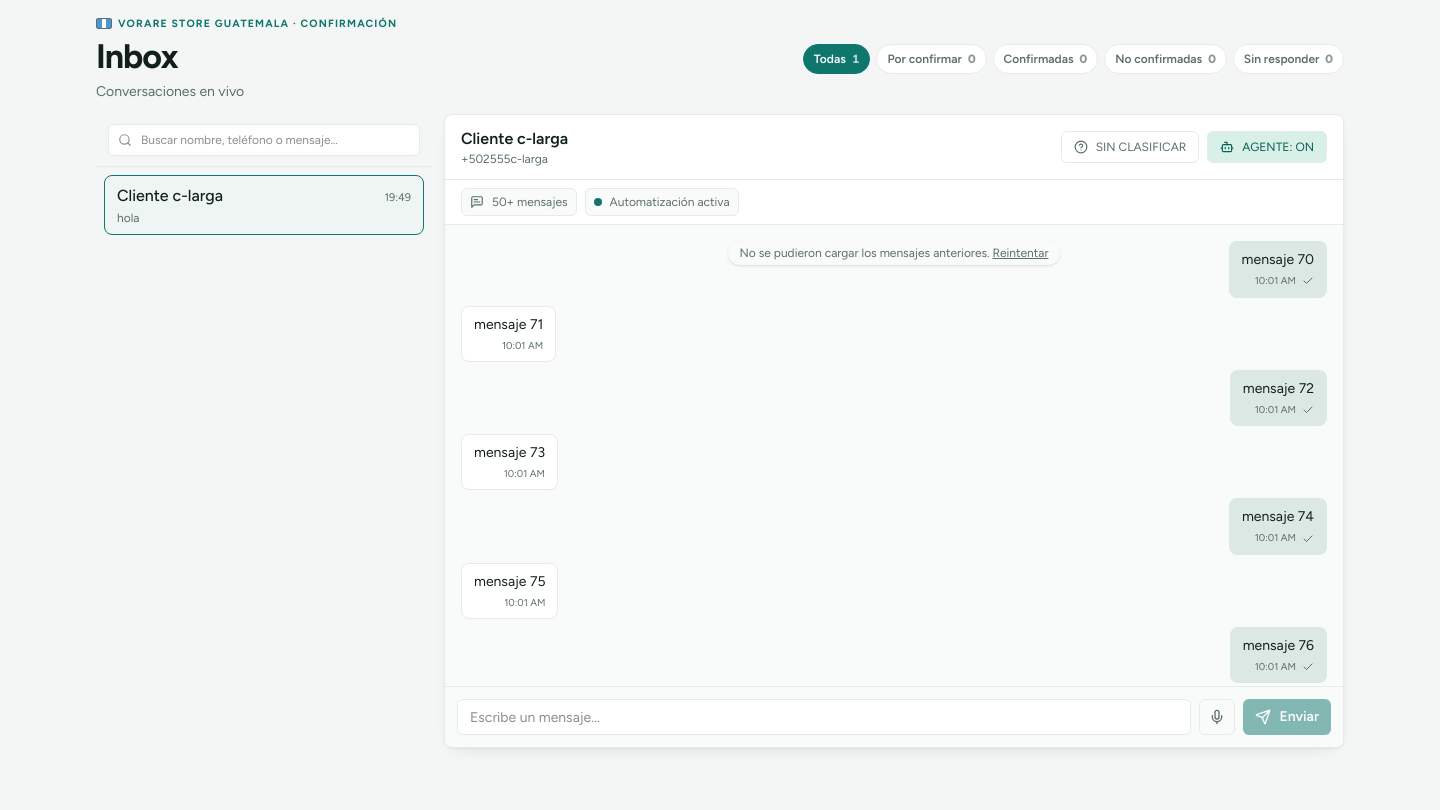
Scenario: al subir › tras un error no entra en bucle, y se puede reintentar
Check: the text "No se pudieron cargar los mensajes anteriores. Reintentar" is shown, box top-left (728, 241), bottom-right (1060, 265)
Click the button "Reintentar". click: (1020, 253)
box: top-left (992, 245), bottom-right (1048, 261)
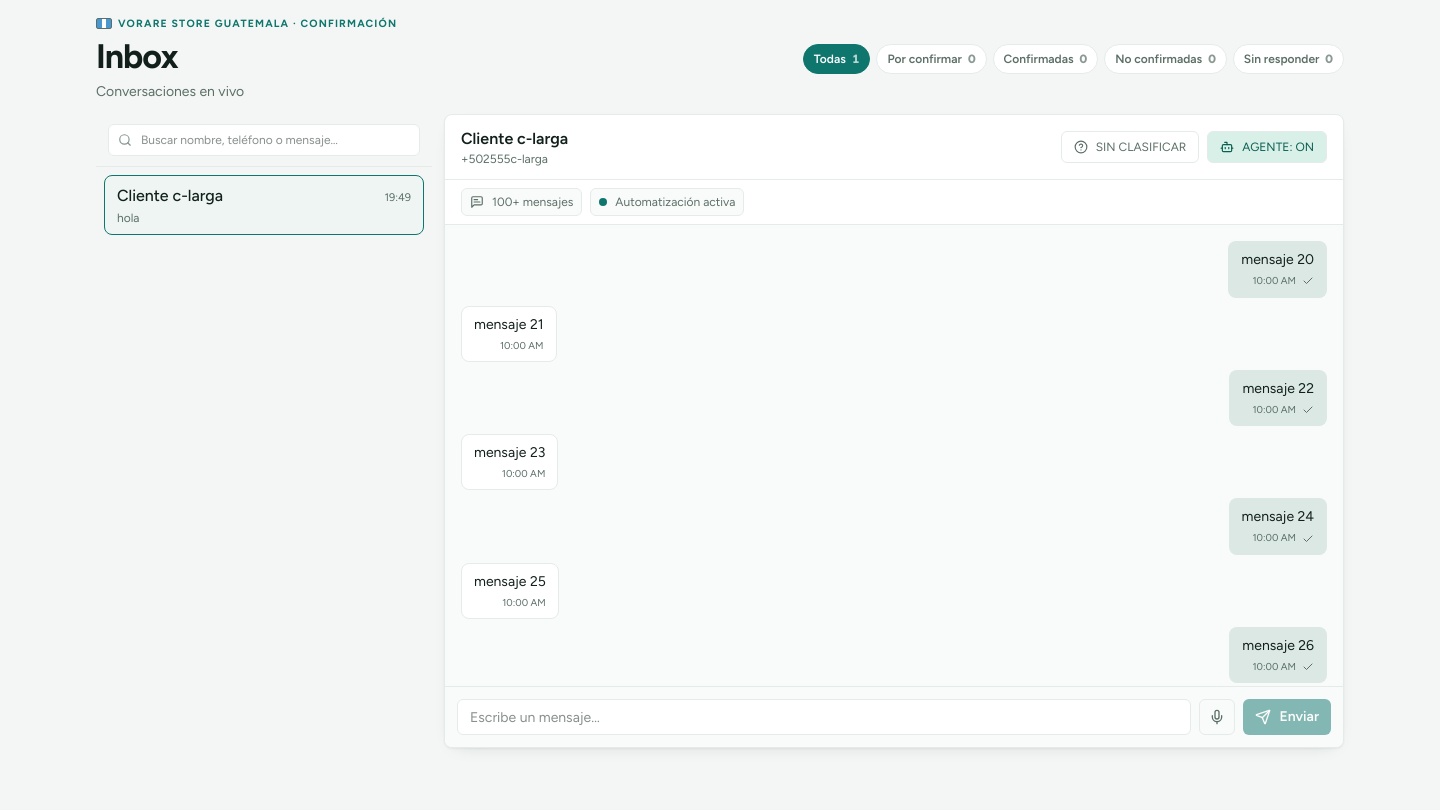
Check: the text "mensaje 20" is shown, box top-left (1241, 250), bottom-right (1314, 270)
